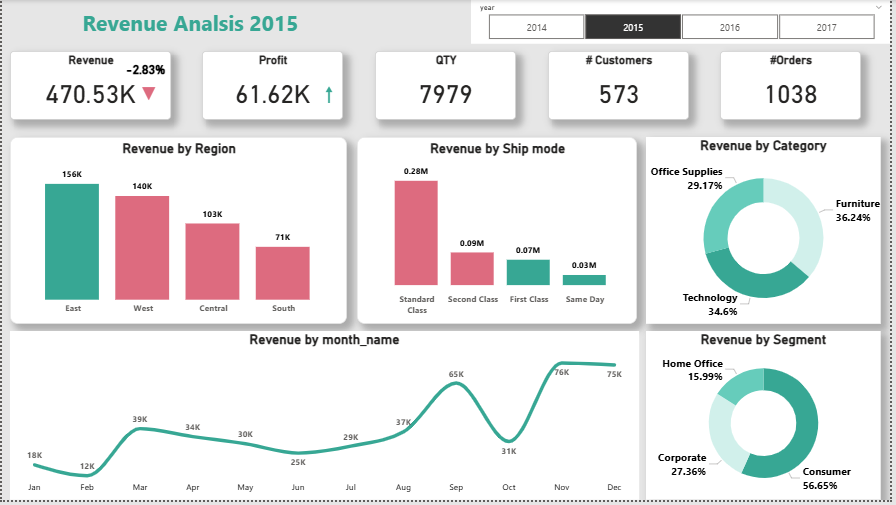

The page's visual inventory and layout, read from the dashboard file:
{"tool":"powerbi","page":{"name":"Main page","canvas":[1280,720],"ordinal":0},"visuals":[{"type":"card","title":"Revenue","fields":{"Values":["Calculations.Revenue"]},"box":[11.5,73.4,231.8,99.4],"z":0},{"type":"card","title":"Profit","fields":{"Values":["Calculations.profit"]},"box":[288.7,73.4,203,99.4],"z":1000},{"type":"card","title":"QTY","fields":{"Values":["Calculations.QTY"]},"box":[537.1,73.4,203,99.4],"z":2000},{"type":"card","title":"# Customers","fields":{"Values":["Calculations.#CUSTOMERS"]},"box":[785.5,73.4,203,99.4],"z":3000},{"type":"card","title":"#Orders","fields":{"Values":["Calculations.#Orders"]},"box":[1033.9,73.4,203,99.4],"z":4000},{"type":"slicer","fields":{"Values":["calender_date.year"]},"box":[675.2,0,604.8,63.4],"z":5000},{"type":"clusteredColumnChart","title":"Revenue by Region","fields":{"Category":["dlocations.Region"],"Y":["Calculations.Revenue"]},"box":[11.5,197.3,485.3,269.3],"z":6000},{"type":"clusteredColumnChart","title":"Revenue by Ship mode","fields":{"Y":["Calculations.Revenue"],"Category":["dshipmode.Ship Mode"]},"box":[510.5,197.3,403.2,269.3],"z":7000},{"type":"donutChart","title":"Revenue by Category","fields":{"Category":["dproduct.Category"],"Y":["Calculations.Revenue"]},"box":[927.4,197.3,338.4,269.3],"z":8000},{"type":"lineChart","fields":{"Category":["calender_date.month_name"],"Y":["Calculations.Revenue"]},"box":[11.5,476.6,905.8,243.4],"z":9000},{"type":"donutChart","title":"Revenue by Segment","fields":{"Category":["dcustomer.Segment"],"Y":["Calculations.Revenue"]},"box":[927.4,476.6,338.4,243.4],"z":10000},{"type":"card","fields":{"Values":["Calculations.Arrow Rev"]},"box":[167,96.5,87.8,76.3],"z":11000},{"type":"card","fields":{"Values":["Calculations.ARROW Profit"]},"box":[442.1,110.9,57.6,49],"z":12000},{"type":"actionButton","box":[0,0,542.9,63.4],"z":13000},{"type":"card","fields":{"Values":["Calculations.SUBTITEL VARREV"]},"box":[141.1,77.8,131,46.1],"z":14000}]}

Visuals, with their boxes in screenshot pixels (x1, y1, x2, y2), scaled from the page's 1280x720 canvas onto the 896x505 screenshot:
"Revenue" card: 8, 51, 170, 121
"Profit" card: 202, 51, 344, 121
"QTY" card: 376, 51, 518, 121
"# Customers" card: 550, 51, 692, 121
"#Orders" card: 724, 51, 866, 121
slicer - calender_date.year: 473, 0, 895, 44
"Revenue by Region" clusteredColumnChart: 8, 138, 348, 327
"Revenue by Ship mode" clusteredColumnChart: 357, 138, 640, 327
"Revenue by Category" donutChart: 649, 138, 886, 327
lineChart - calender_date.month_name x Calculations.Revenue: 8, 334, 642, 504
"Revenue by Segment" donutChart: 649, 334, 886, 504
card - Calculations.Arrow Rev: 117, 68, 178, 121
card - Calculations.ARROW Profit: 309, 78, 350, 112
actionButton: 0, 0, 380, 44
card - Calculations.SUBTITEL VARREV: 99, 55, 190, 87
